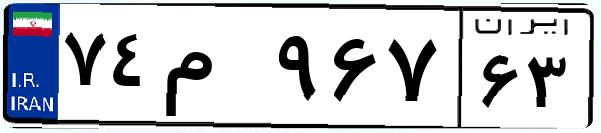3: (525, 38, 570, 115)
4: (110, 28, 158, 98)
6: (330, 28, 385, 110), (475, 38, 525, 113)
7: (385, 28, 445, 110), (57, 26, 110, 100)
9: (270, 28, 330, 110)
م: (158, 20, 270, 120)
